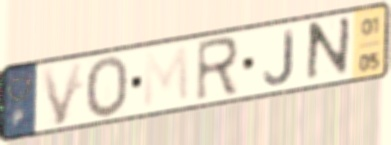J: (261, 27, 295, 87)
M: (141, 43, 192, 111)
N: (303, 13, 354, 87)
O: (84, 54, 131, 122)
R: (193, 34, 241, 106)
V: (37, 58, 87, 129)
